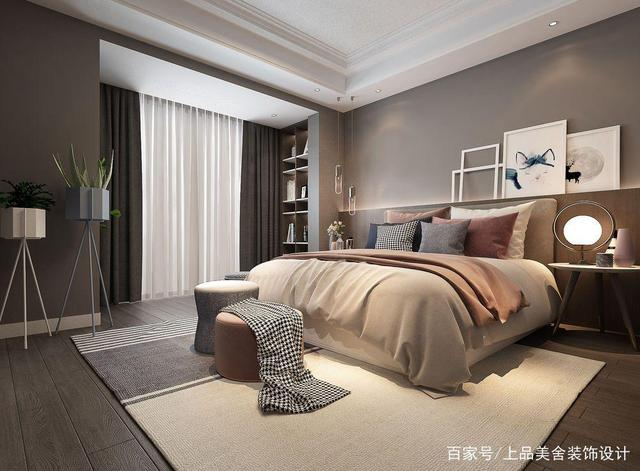床: (217, 247, 556, 393)
枕头: (366, 209, 535, 259)
灯: (331, 95, 361, 220), (559, 210, 608, 263), (547, 19, 563, 31), (375, 89, 387, 97)
